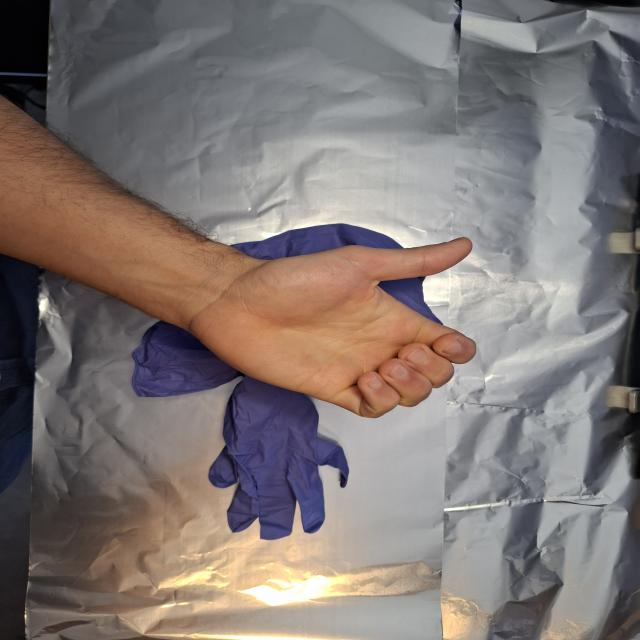glove_off: (179, 233, 480, 420)
